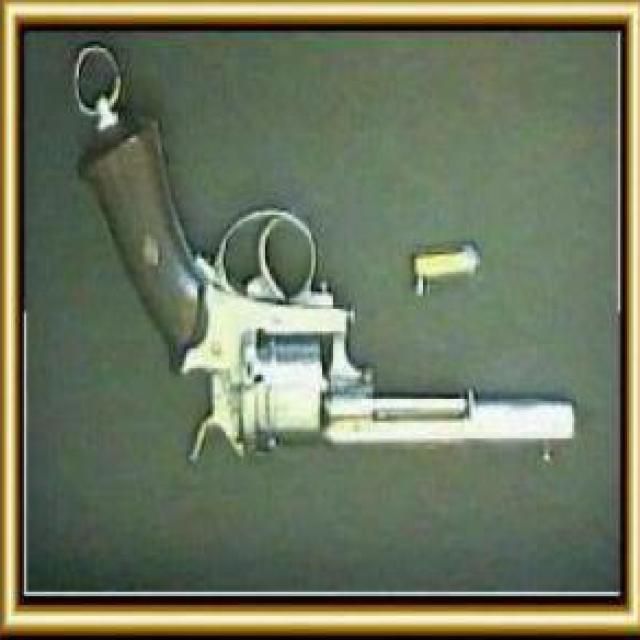pistol: (75, 109, 583, 469)
